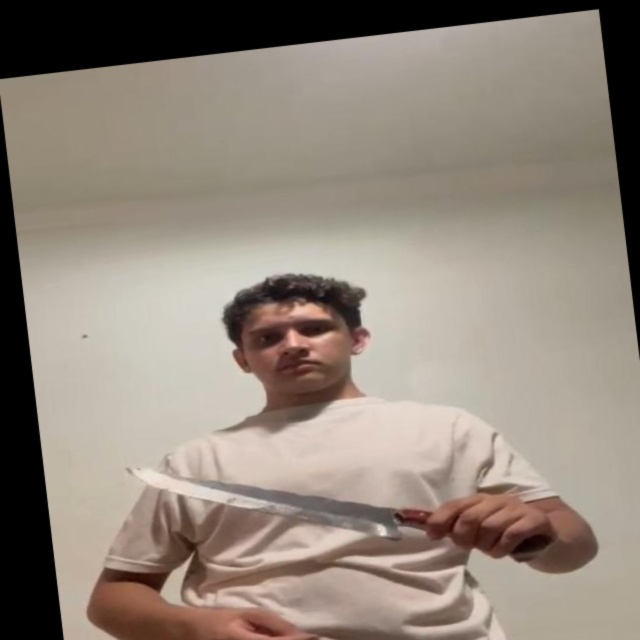Sharp-Object: (123, 435, 410, 571)
